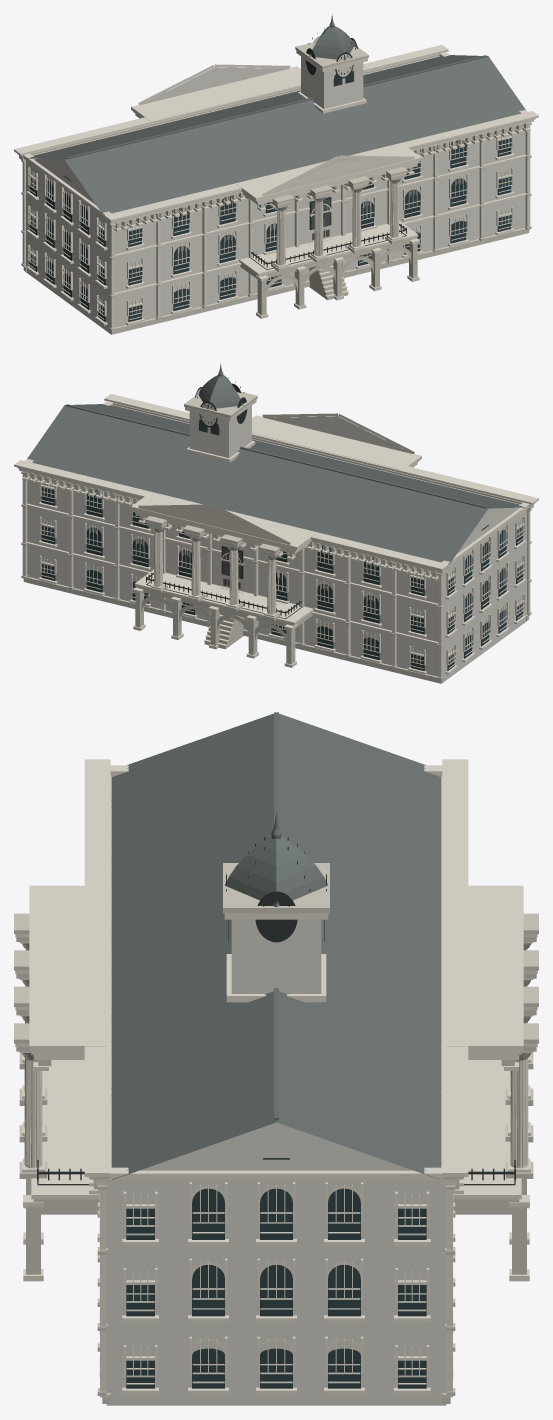
The model's file is courthouse.glb.
The picture shows the model from 3 angles, top to bottom: view 1: azimuth 30°, elevation 25°; view 2: azimuth 150°, elevation 25°; view 3: azimuth 270°, elevation 25°; orthographic projection. The views are drawn at different scales.
Parts seen in each view (by area): view 1: East five-bay return and gable, Side-gable sheet-metal roof, North four-arch lower arcade; view 2: East five-bay return and gable, Side-gable sheet-metal roof, North four-arch lower arcade; view 3: East five-bay return and gable, Side-gable sheet-metal roof, North four-arch lower arcade.
Boxes of the visible parts, <box> form: East five-bay return and gable: <box>14,28,538,334</box>; Side-gable sheet-metal roof: <box>27,14,526,219</box>; North four-arch lower arcade: <box>18,42,535,334</box>; East five-bay return and gable: <box>14,377,538,683</box>; Side-gable sheet-metal roof: <box>26,363,525,568</box>; North four-arch lower arcade: <box>17,392,534,683</box>; East five-bay return and gable: <box>15,759,537,1405</box>; Side-gable sheet-metal roof: <box>107,712,445,1181</box>; North four-arch lower arcade: <box>14,863,538,1403</box>.
Bounding box in the file's own units: 46.15 × 23.18 × 24.74.
